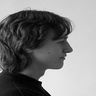ear: (17, 33, 37, 57)
